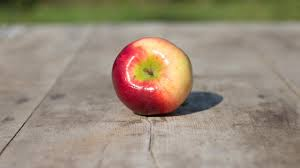apple: (114, 38, 195, 119)
